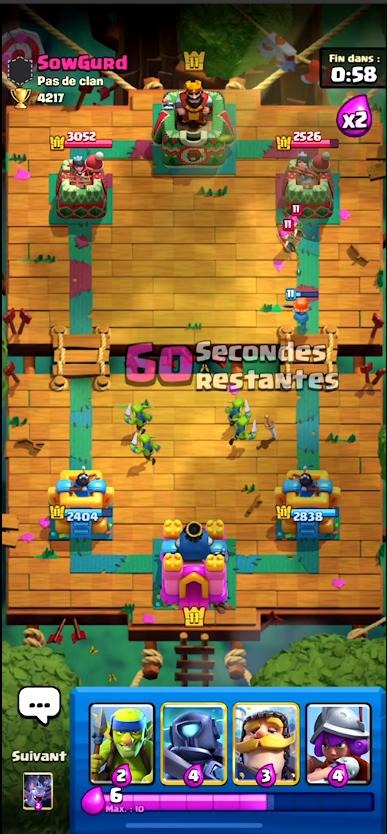archere: (277, 218, 295, 255), (285, 205, 304, 235)
gobelin: (130, 426, 158, 463), (233, 417, 258, 444), (126, 401, 148, 428), (227, 397, 250, 421)
valkyrie: (287, 293, 314, 335)
